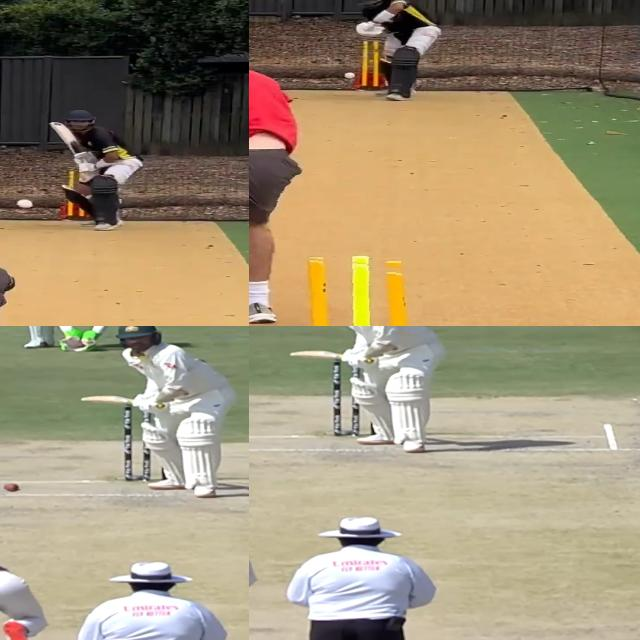Cricket ball: (1, 482, 21, 493), (15, 198, 33, 209), (345, 71, 358, 80)
Stumps: (284, 255, 421, 326)
